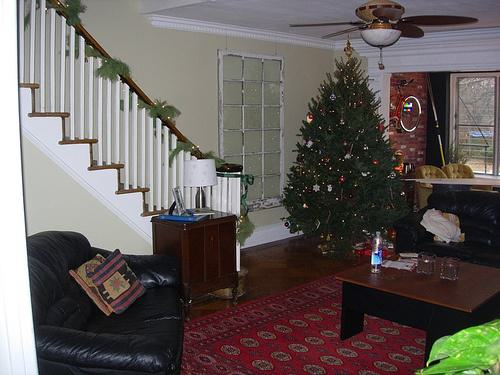bottle: (373, 231, 383, 278)
car: (390, 79, 426, 135)
sofa: (26, 231, 186, 373), (391, 190, 500, 272)
